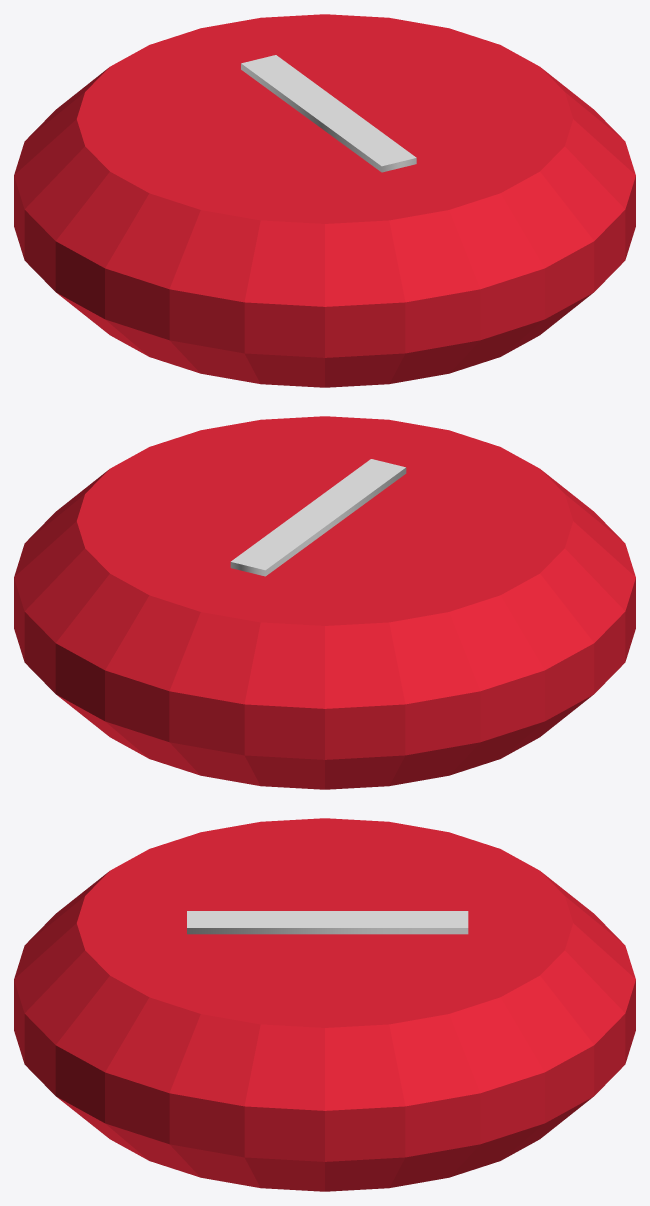
The model's file is 1宝石色.fbx.
3 renders of one model, top to bottom at view 1: azimuth 30°, elevation 25°; view 2: azimuth 150°, elevation 25°; view 3: azimuth 270°, elevation 25°, orthographic.
Parts seen in each view (by area): view 1: Circle, Text; view 2: Circle, Text; view 3: Circle, Text.
Part boxes in pixels (x1=…): Circle: x1=14, y1=14, x2=635, y2=387; Text: x1=241, y1=55, x2=416, y2=172; Circle: x1=14, y1=416, x2=635, y2=789; Text: x1=230, y1=459, x2=406, y2=576; Circle: x1=14, y1=818, x2=635, y2=1191; Text: x1=187, y1=911, x2=468, y2=934.
Size of the model in its own units: 200 by 64.15 by 200.
